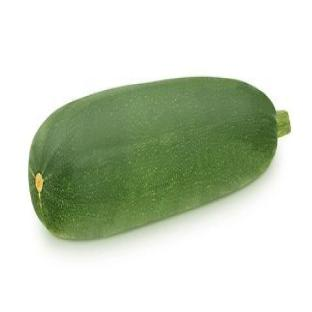Zucchini: (29, 78, 289, 238)
